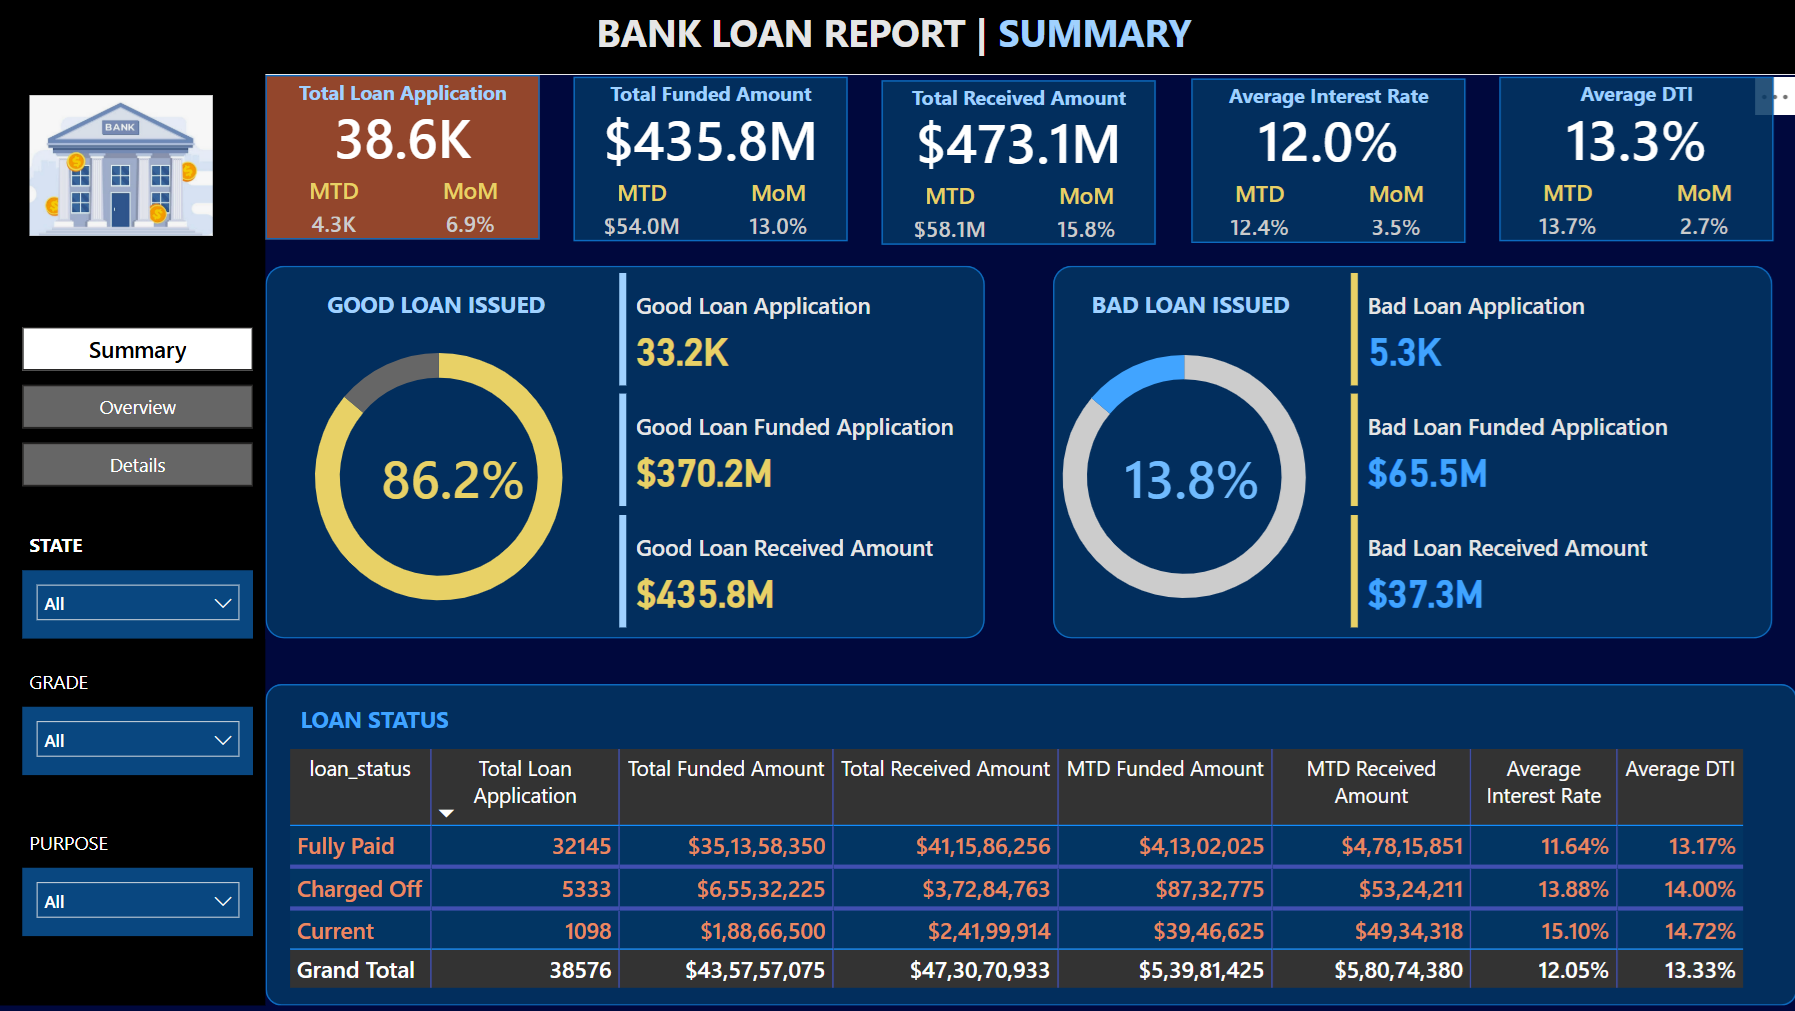

The dashboard page shown, as its layout file describes it:
{"tool":"powerbi","page":{"name":"Summary","canvas":[1280,720],"ordinal":0},"visuals":[{"type":"shape","box":[0,0,1279.8,54.7],"z":0},{"type":"textbox","box":[215.1,201.5,195.3,32.3],"z":0,"group":"g6"},{"type":"shape","box":[0,51,191.5,665.4],"z":1000},{"type":"donutChart","fields":{"Category":["financial_loan.Good vs Bad Loan"],"Y":["financial_loan.Total Loan Application"]},"box":[191.5,225.1,246.3,230.1],"z":1000,"group":"g6"},{"type":"textbox","box":[421.6,1.2,495,51],"z":2000},{"type":"shape","box":[191.5,54.7,195,117],"z":2000,"group":"g1"},{"type":"shape","box":[410.8,56,195,117],"z":2000,"group":"g2"},{"type":"shape","box":[1068.4,56,195,117],"z":2000,"group":"g5"},{"type":"shape","box":[849.2,57.2,195,117],"z":2000,"group":"g4"},{"type":"shape","box":[630,58.5,195,117],"z":2000,"group":"g3"},{"type":"donutChart","fields":{"Category":["financial_loan.Good vs Bad Loan"],"Y":["financial_loan.Total Loan Application"]},"box":[731.3,225.1,226.4,230.1],"z":2000,"group":"g6"},{"type":"group","id":"g1","title":"Group 1","box":[191.5,52.2,195.3,119.5],"z":3000},{"type":"cardVisual","fields":{"Data":["financial_loan.Good Loan Application","financial_loan.Good Loan Funded Application","financial_loan.Good Loan Received Amount"]},"box":[437.8,190.3,264.9,264.9],"z":3000,"group":"g6"},{"type":"card","fields":{"Values":["financial_loan.Total Loan Application"]},"box":[191.5,70.9,195.3,54.7],"z":4000,"group":"g1"},{"type":"card","fields":{"Values":["financial_loan.Total Funded Amount"]},"box":[410.8,72.2,195.3,54.7],"z":4000,"group":"g2"},{"type":"card","fields":{"Values":["financial_loan.Average DTI"]},"box":[1068.4,72.2,195.3,54.7],"z":4000,"group":"g5"},{"type":"card","fields":{"Values":["financial_loan.Average Interest Rate"]},"box":[849.2,73.4,195.3,54.7],"z":4000,"group":"g4"},{"type":"card","fields":{"Values":["financial_loan.Total Received Amount"]},"box":[630,74.7,195.3,54.7],"z":4000,"group":"g3"},{"type":"shape","box":[191.5,190.3,511.2,264.9],"z":4000},{"type":"textbox","box":[751.2,201.5,195.3,32.3],"z":4000,"group":"g6"},{"type":"textbox","box":[191.5,52.2,195.3,36.1],"z":5000,"group":"g1"},{"type":"textbox","box":[410.8,53.5,195.3,36.1],"z":5000,"group":"g2"},{"type":"textbox","box":[1068.4,53.5,195.3,36.1],"z":5000,"group":"g5"},{"type":"textbox","box":[849.2,54.7,195.3,36.1],"z":5000,"group":"g4"},{"type":"textbox","box":[630,56,195.3,36.1],"z":5000,"group":"g3"},{"type":"cardVisual","fields":{"Data":["financial_loan.Bad Loan Application","financial_loan.Bad Loan Funded Application","financial_loan.Bad Loan Received Amount"]},"box":[957.7,190.3,264.9,264.9],"z":5000,"group":"g6"},{"type":"card","fields":{"Values":["financial_loan.Good Loan %"]},"box":[263.7,313.4,123.1,54.7],"z":5000},{"type":"group","id":"g2","title":"Group 1","box":[410.8,53.5,195.3,119.4],"z":6000},{"type":"card","title":"MTD","fields":{"Values":["financial_loan.MTD Loan Application"]},"box":[202.7,125.6,74.6,44.8],"z":6000,"group":"g1"},{"type":"card","title":"MTD","fields":{"Values":["financial_loan.MTD Funded Amount"]},"box":[422,126.9,74.6,44.8],"z":6000,"group":"g2"},{"type":"card","title":"MTD","fields":{"Values":["financial_loan.MTD Avg DTI"]},"box":[1079.6,126.9,74.6,44.8],"z":6000,"group":"g5"},{"type":"card","title":"MTD","fields":{"Values":["financial_loan.MTD Avg Interest"]},"box":[860.4,128.1,74.6,44.8],"z":6000,"group":"g4"},{"type":"card","title":"MTD","fields":{"Values":["financial_loan.MTD Received Amount"]},"box":[641.2,129.4,74.6,44.8],"z":6000,"group":"g3"},{"type":"card","title":"MoM","fields":{"Values":["financial_loan.MoM Loan Application"]},"box":[299.7,125.6,74.6,44.8],"z":7000,"group":"g1"},{"type":"card","title":"MoM","fields":{"Values":["financial_loan.MoM Funded Amount"]},"box":[519,126.9,74.6,44.8],"z":7000,"group":"g2"},{"type":"card","title":"MoM","fields":{"Values":["financial_loan.MoM Avg DTI"]},"box":[1176.6,126.9,74.6,44.8],"z":7000,"group":"g5"},{"type":"card","title":"MoM","fields":{"Values":["financial_loan.MoM Avg Interest Rate"]},"box":[957.4,128.1,74.6,44.8],"z":7000,"group":"g4"},{"type":"card","title":"MoM","fields":{"Values":["financial_loan.MoM Received Amount"]},"box":[738.2,129.4,74.6,44.8],"z":7000,"group":"g3"},{"type":"shape","box":[751.2,190.3,511.2,264.9],"z":7000},{"type":"group","id":"g3","title":"Group 1","box":[630,56,195.3,119.4],"z":8000},{"type":"shape","box":[191.5,487.6,1088.3,228.9],"z":9000},{"type":"group","id":"g4","title":"Group 1","box":[849.2,54.7,195.3,119.4],"z":10000},{"type":"group","id":"g5","title":"Group 1","box":[1068.4,53.5,195.3,119.4],"z":11000},{"type":"card","fields":{"Values":["financial_loan.Bad Loan %"]},"box":[788.5,313.4,123.1,54.7],"z":12000},{"type":"group","id":"g6","title":"Group 2","box":[191.5,190.3,1031.1,264.9],"z":13000},{"type":"tableEx","fields":{"Values":["financial_loan.loan_status","financial_loan.Total Loan Application","financial_loan.Total Funded Amount","financial_loan.Total Received Amount","financial_loan.MTD Funded Amount","financial_loan.MTD Received Amount","financial_loan.Average Interest Rate","financial_loan.Average DTI"]},"box":[202.7,528.6,1060.9,187.8],"z":14000},{"type":"textbox","box":[211.4,496.3,199,32.3],"z":15000},{"type":"slicer","fields":{"Values":["financial_loan.address_state"]},"box":[18.7,406.7,164.2,48.5],"z":16000},{"type":"textbox","box":[18.7,374.4,164.2,32.3],"z":17000},{"type":"slicer","fields":{"Values":["financial_loan.grade"]},"box":[18.7,503.7,164.2,48.5],"z":18000},{"type":"slicer","fields":{"Values":["financial_loan.purpose"]},"box":[18.7,618.1,164.2,48.5],"z":19000},{"type":"textbox","box":[18.7,471.4,164.2,32.3],"z":20000},{"type":"textbox","box":[18.7,585.8,164.2,32.3],"z":21000},{"type":"image","box":[18.7,62.2,140.5,113.2],"z":22000},{"type":"pageNavigator","box":[18.7,233.8,164.2,115.7],"z":23000}]}

Visuals, with their boxes in screenshot pixels (x1, y1, x2, y2), scaled from the page's 1280x720 canvas onto the 1795x1011 screenshot:
shape: pyautogui.locateOnScreen(0, 0, 1794, 77)
textbox: pyautogui.locateOnScreen(302, 283, 576, 328)
shape: pyautogui.locateOnScreen(0, 72, 269, 1006)
donutChart - financial_loan.Good vs Bad Loan x financial_loan.Total Loan Application: pyautogui.locateOnScreen(269, 316, 614, 639)
textbox: pyautogui.locateOnScreen(591, 2, 1285, 73)
shape: pyautogui.locateOnScreen(269, 77, 542, 241)
shape: pyautogui.locateOnScreen(576, 79, 850, 243)
shape: pyautogui.locateOnScreen(1498, 79, 1772, 243)
shape: pyautogui.locateOnScreen(1191, 80, 1464, 245)
shape: pyautogui.locateOnScreen(883, 82, 1157, 246)
donutChart - financial_loan.Good vs Bad Loan x financial_loan.Total Loan Application: pyautogui.locateOnScreen(1026, 316, 1343, 639)
"Group 1" group: pyautogui.locateOnScreen(269, 73, 542, 241)
cardVisual - financial_loan.Good Loan Application x financial_loan.Good Loan Funded Application: pyautogui.locateOnScreen(614, 267, 985, 639)
card - financial_loan.Total Loan Application: pyautogui.locateOnScreen(269, 100, 542, 176)
card - financial_loan.Total Funded Amount: pyautogui.locateOnScreen(576, 101, 850, 178)
card - financial_loan.Average DTI: pyautogui.locateOnScreen(1498, 101, 1772, 178)
card - financial_loan.Average Interest Rate: pyautogui.locateOnScreen(1191, 103, 1465, 180)
card - financial_loan.Total Received Amount: pyautogui.locateOnScreen(883, 105, 1157, 182)
shape: pyautogui.locateOnScreen(269, 267, 985, 639)
textbox: pyautogui.locateOnScreen(1053, 283, 1327, 328)
textbox: pyautogui.locateOnScreen(269, 73, 542, 124)
textbox: pyautogui.locateOnScreen(576, 75, 850, 126)
textbox: pyautogui.locateOnScreen(1498, 75, 1772, 126)
textbox: pyautogui.locateOnScreen(1191, 77, 1465, 127)
textbox: pyautogui.locateOnScreen(883, 79, 1157, 129)
cardVisual - financial_loan.Bad Loan Application x financial_loan.Bad Loan Funded Application: pyautogui.locateOnScreen(1343, 267, 1715, 639)
card - financial_loan.Good Loan %: pyautogui.locateOnScreen(370, 440, 542, 517)
"Group 1" group: pyautogui.locateOnScreen(576, 75, 850, 243)
"MTD" card: pyautogui.locateOnScreen(284, 176, 389, 239)
"MTD" card: pyautogui.locateOnScreen(592, 178, 696, 241)
"MTD" card: pyautogui.locateOnScreen(1514, 178, 1619, 241)
"MTD" card: pyautogui.locateOnScreen(1207, 180, 1311, 243)
"MTD" card: pyautogui.locateOnScreen(899, 182, 1004, 245)
"MoM" card: pyautogui.locateOnScreen(420, 176, 525, 239)
"MoM" card: pyautogui.locateOnScreen(728, 178, 832, 241)
"MoM" card: pyautogui.locateOnScreen(1650, 178, 1755, 241)
"MoM" card: pyautogui.locateOnScreen(1343, 180, 1447, 243)
"MoM" card: pyautogui.locateOnScreen(1035, 182, 1140, 245)
shape: pyautogui.locateOnScreen(1053, 267, 1770, 639)
"Group 1" group: pyautogui.locateOnScreen(883, 79, 1157, 246)
shape: pyautogui.locateOnScreen(269, 685, 1794, 1006)
"Group 1" group: pyautogui.locateOnScreen(1191, 77, 1465, 244)
"Group 1" group: pyautogui.locateOnScreen(1498, 75, 1772, 243)
card - financial_loan.Bad Loan %: pyautogui.locateOnScreen(1106, 440, 1278, 517)
"Group 2" group: pyautogui.locateOnScreen(269, 267, 1715, 639)
tableEx - financial_loan.loan_status x financial_loan.Total Loan Application: pyautogui.locateOnScreen(284, 742, 1772, 1006)
textbox: pyautogui.locateOnScreen(296, 697, 576, 742)
slicer - financial_loan.address_state: pyautogui.locateOnScreen(26, 571, 256, 639)
textbox: pyautogui.locateOnScreen(26, 526, 256, 571)
slicer - financial_loan.grade: pyautogui.locateOnScreen(26, 707, 256, 775)
slicer - financial_loan.purpose: pyautogui.locateOnScreen(26, 868, 256, 936)
textbox: pyautogui.locateOnScreen(26, 662, 256, 707)
textbox: pyautogui.locateOnScreen(26, 823, 256, 868)
image: pyautogui.locateOnScreen(26, 87, 223, 246)
pageNavigator: pyautogui.locateOnScreen(26, 328, 256, 491)
